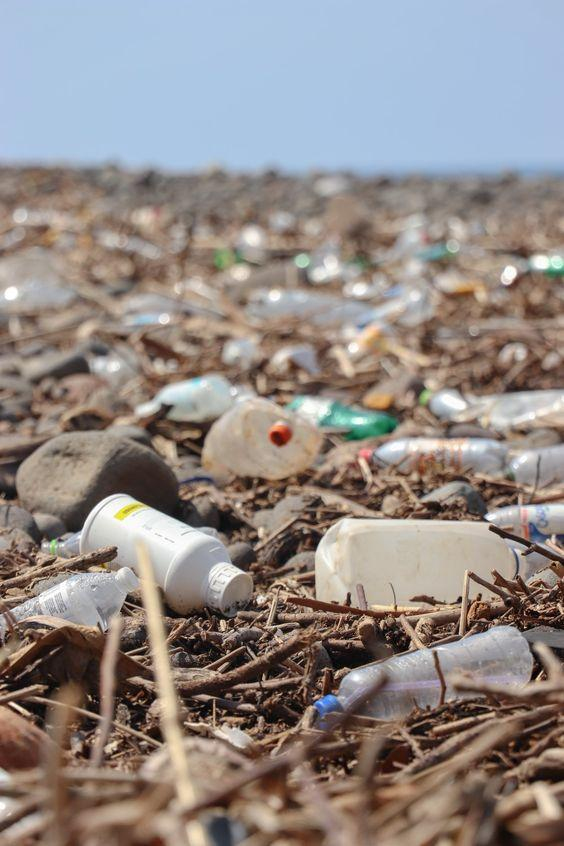HDPE: (79, 495, 253, 611)
PETE: (313, 518, 527, 611), (337, 624, 534, 724), (0, 572, 125, 627)
